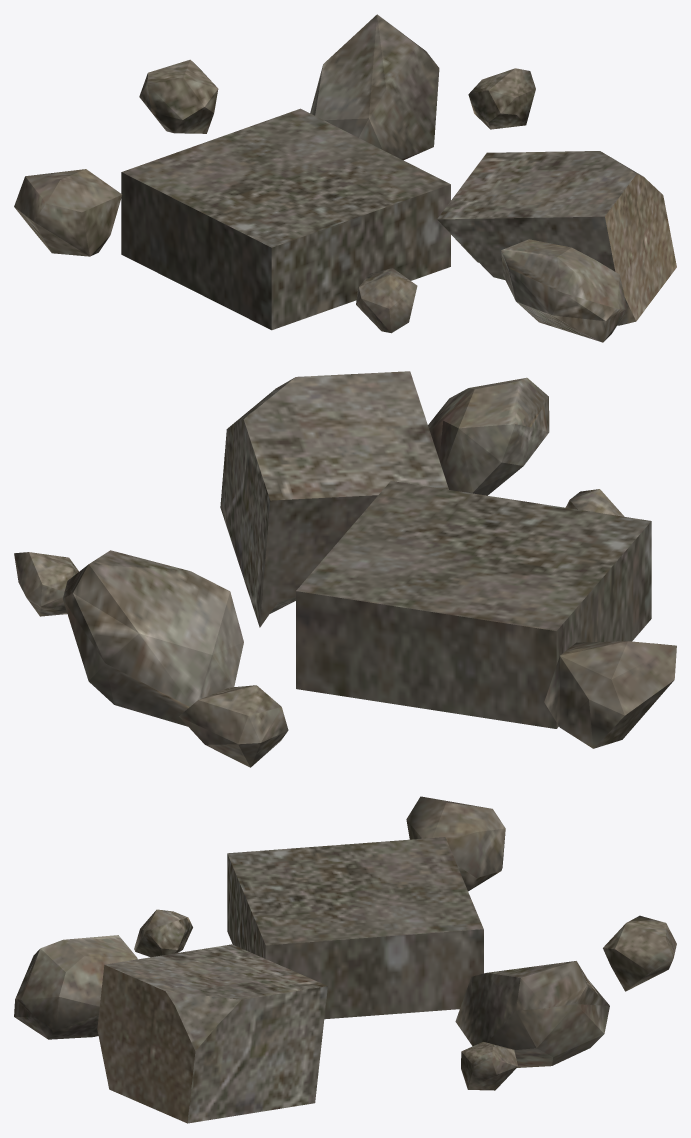
File: bg_lut_lutomb_brick01_sm_old.FBX
The picture shows the model from 3 angles, top to bottom: view 1: azimuth 30°, elevation 25°; view 2: azimuth 150°, elevation 25°; view 3: azimuth 270°, elevation 25°; orthographic projection. The views are drawn at different scales.
Parts seen in each view (by area): view 1: bg_lut_lutomb_brick01_sm_old; view 2: bg_lut_lutomb_brick01_sm_old; view 3: bg_lut_lutomb_brick01_sm_old.
Part boxes in pixels (left/top/right/bottom): bg_lut_lutomb_brick01_sm_old: left=14, top=14, right=676, bottom=342; bg_lut_lutomb_brick01_sm_old: left=14, top=371, right=676, bottom=767; bg_lut_lutomb_brick01_sm_old: left=14, top=796, right=676, bottom=1123.
Size of the model in its own units: 171 by 47.49 by 196.
